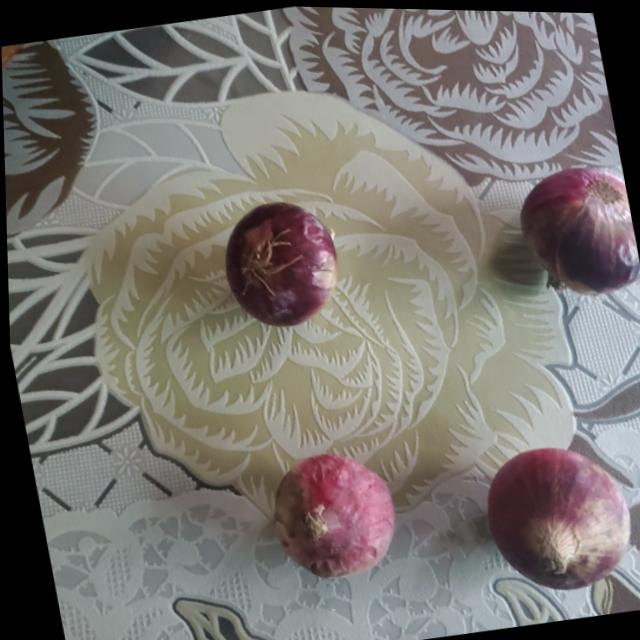onion: (470, 435, 637, 600), (261, 442, 402, 584), (213, 189, 346, 331), (511, 156, 640, 301)
